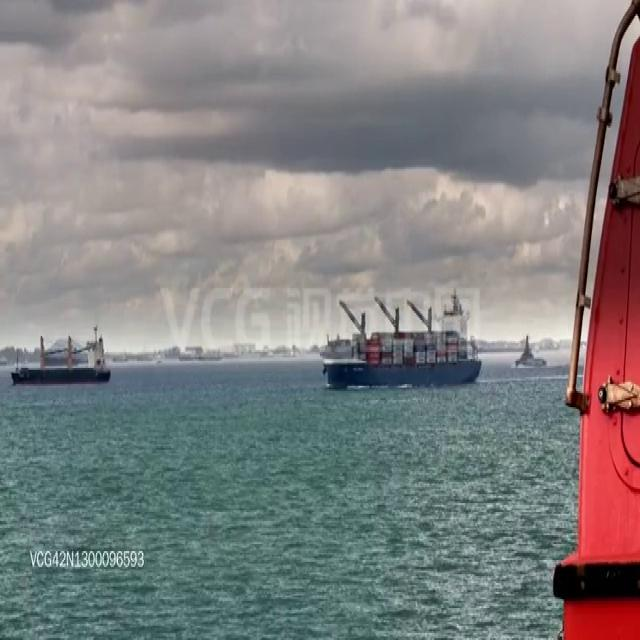cargoship: (320, 294, 478, 389), (6, 324, 112, 384), (514, 328, 546, 371)
